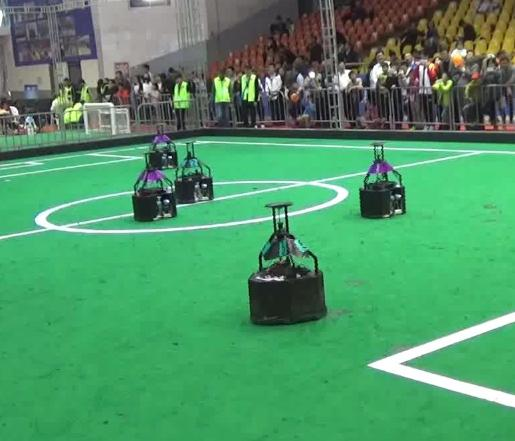robot: (240, 199, 330, 326), (355, 138, 412, 220), (125, 151, 180, 224), (169, 138, 216, 208)
